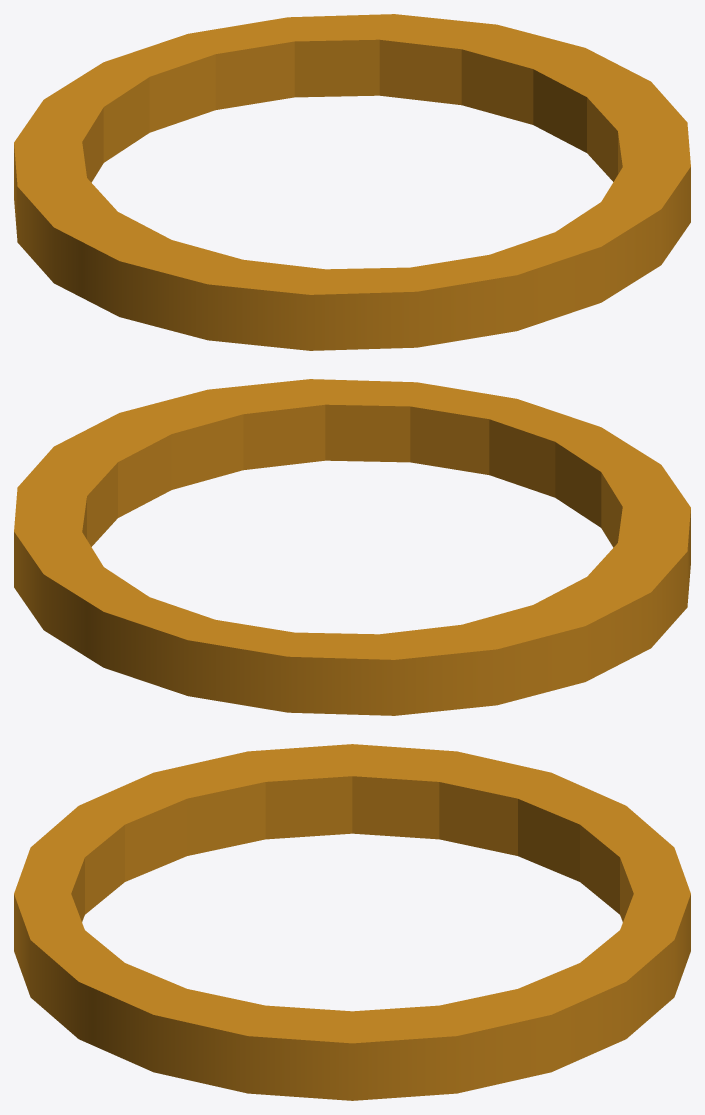
The model's file is Hoop_VR.fbx.
3 renders of one model, top to bottom at view 1: azimuth 30°, elevation 25°; view 2: azimuth 150°, elevation 25°; view 3: azimuth 270°, elevation 25°, orthographic. The views are drawn at different scales.
Visible parts, largest first — view 1: pCylinder1; view 2: pCylinder1; view 3: pCylinder1.
Boxes of the visible parts, <box> form: pCylinder1: <box>14,14,690,350</box>; pCylinder1: <box>14,379,690,715</box>; pCylinder1: <box>14,744,690,1100</box>.
Size of the model in its own units: 39.53 by 3.54 by 37.78.
